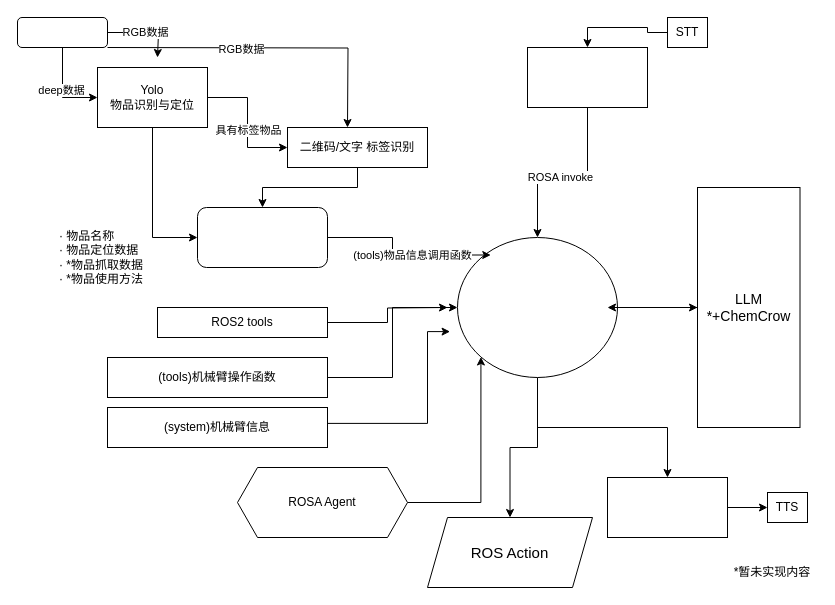
This 835x605 diagram has some shape labels left out. The centre of each missing label's shape, as x and y in pixels:
human imput: pixel 587 77
llm output: pixel 667 507
RGB_D相机: pixel 62 32
ROSA: pixel 537 307
物品信息: pixel 262 237
